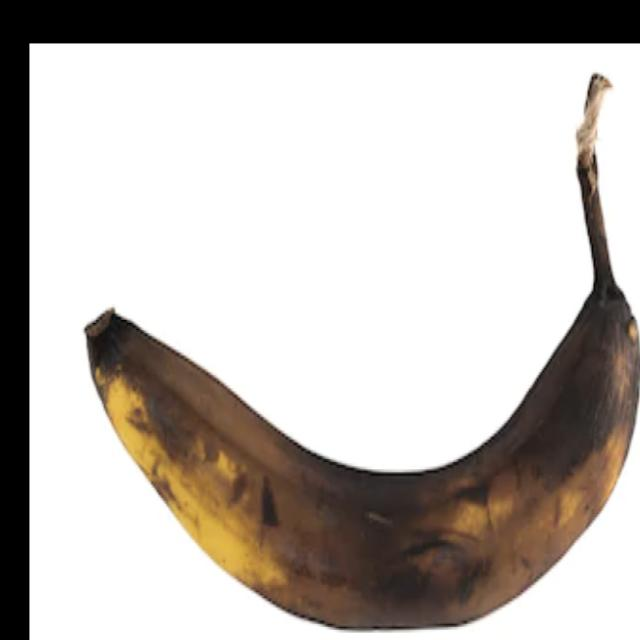banana: (93, 51, 558, 564)
